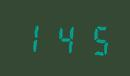five: (79, 20, 108, 57)
four: (49, 19, 78, 56)
one: (18, 18, 47, 55)
